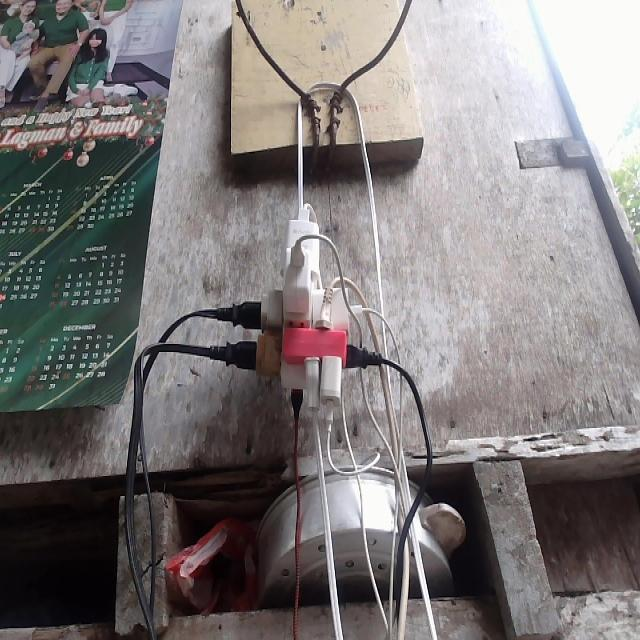-: (238, 207, 365, 429)
